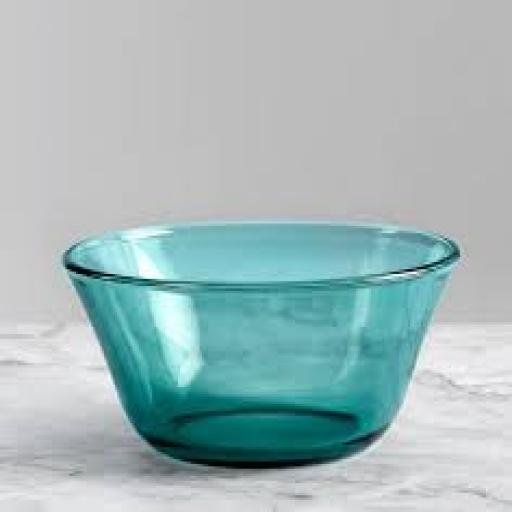Bowl: (63, 221, 458, 464)
